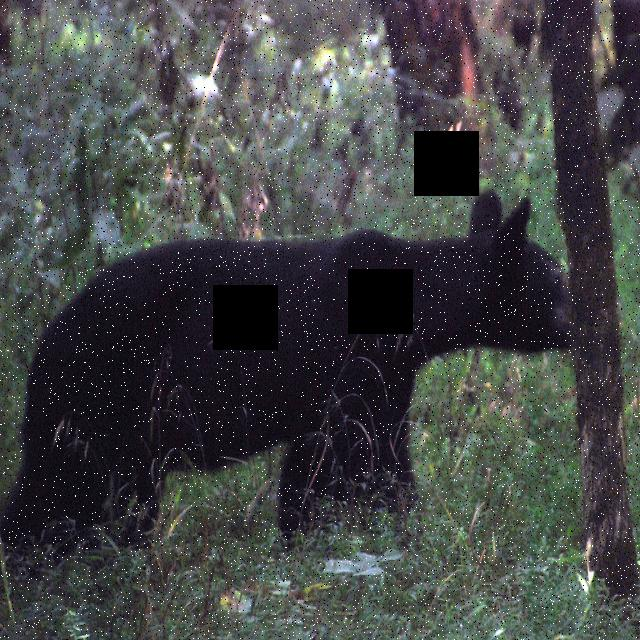Bear: (14, 180, 578, 535)
